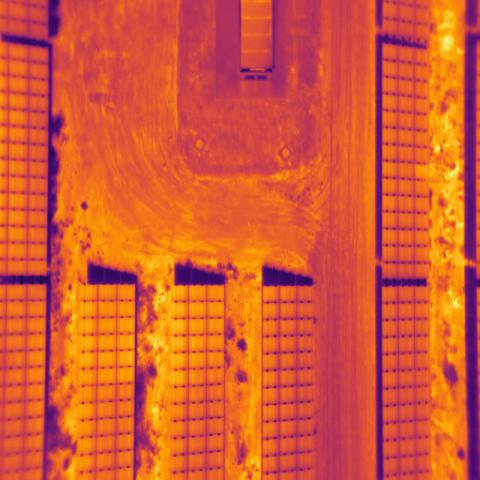fault: (414, 164, 428, 180)
